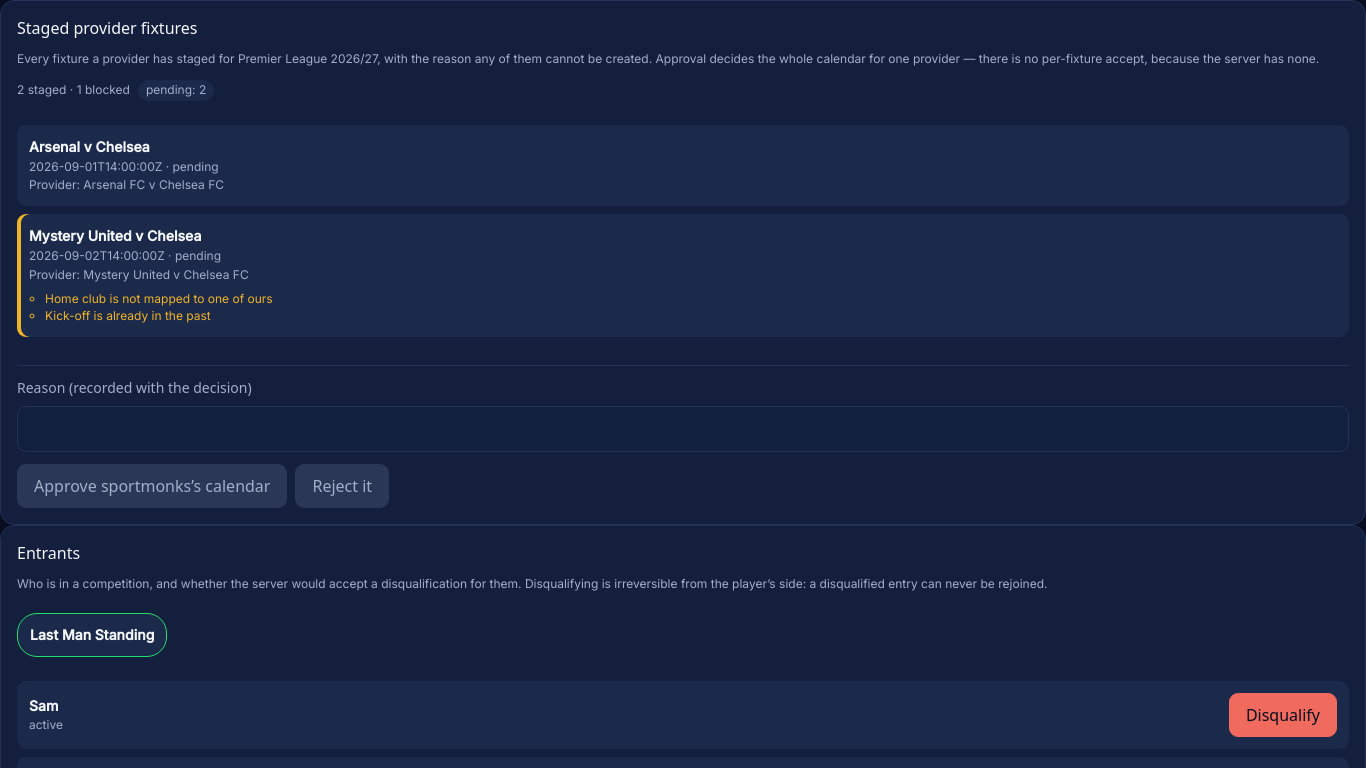
Scenario: the staged proposals panel › refuses to decide without a reason
The image size is (1366, 768).
expect the text "Mystery United v Chelsea" is shown: met, box [29, 227, 201, 244]
expect the button "Approve sportmonks’s calendar" is disabled: met, box [17, 464, 288, 508]
Type "Checked all 380" into the field labelled "Reason (recorded with the decision)". click: point(683, 428)
box: [18, 406, 1348, 450]
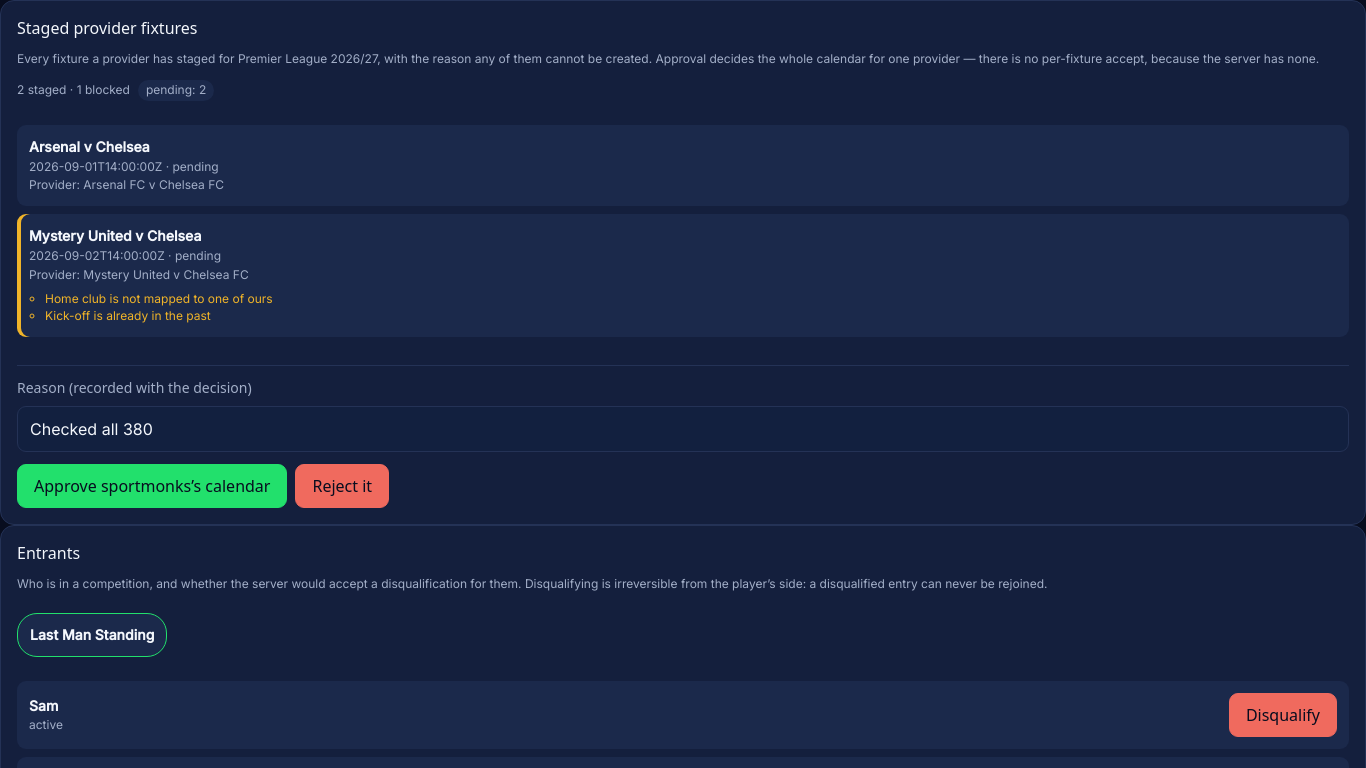
expect the button "Approve sportmonks’s calendar" is enabled: met, box [17, 464, 288, 508]
